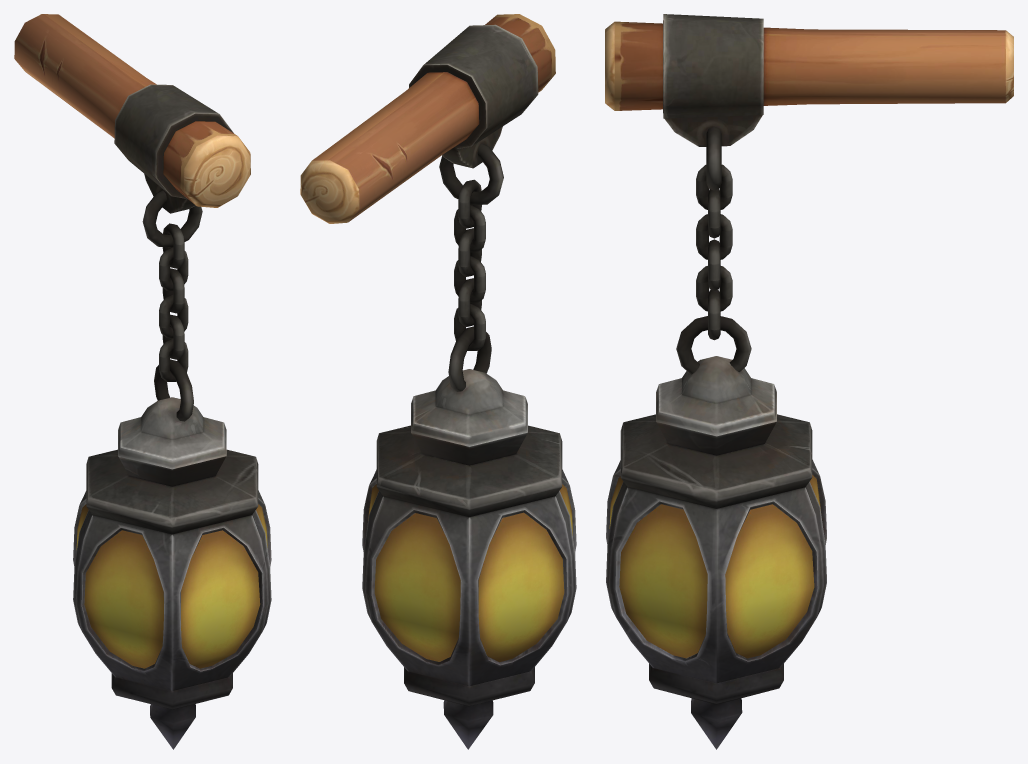
File: DE_Lamp_01.fbx
The picture shows the model from 3 angles, left to right: view 1: azimuth 30°, elevation 25°; view 2: azimuth 150°, elevation 25°; view 3: azimuth 270°, elevation 25°; orthographic projection. The views are drawn at different scales.
Visible parts, largest first — view 1: DE_Lamp_01; view 2: DE_Lamp_01; view 3: DE_Lamp_01.
Boxes of the visible parts, <box> form: DE_Lamp_01: <box>14,14,271,749</box>; DE_Lamp_01: <box>300,14,576,749</box>; DE_Lamp_01: <box>605,14,1013,749</box>.
Size of the model in its own units: 0.9179 by 2.99 by 1.52.
